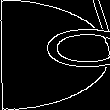O_W: (4, 34, 106, 76)
